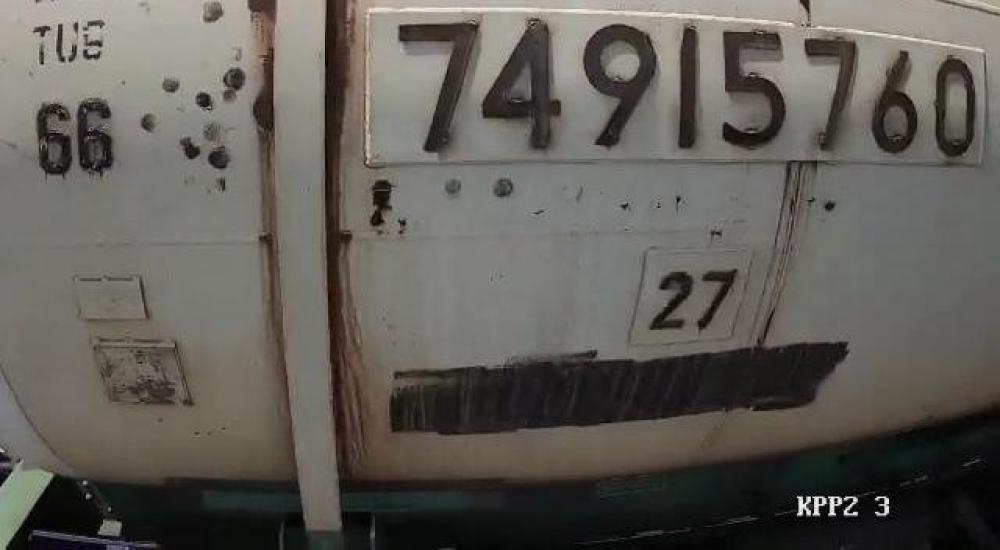Wagon-number: (388, 12, 982, 165)
